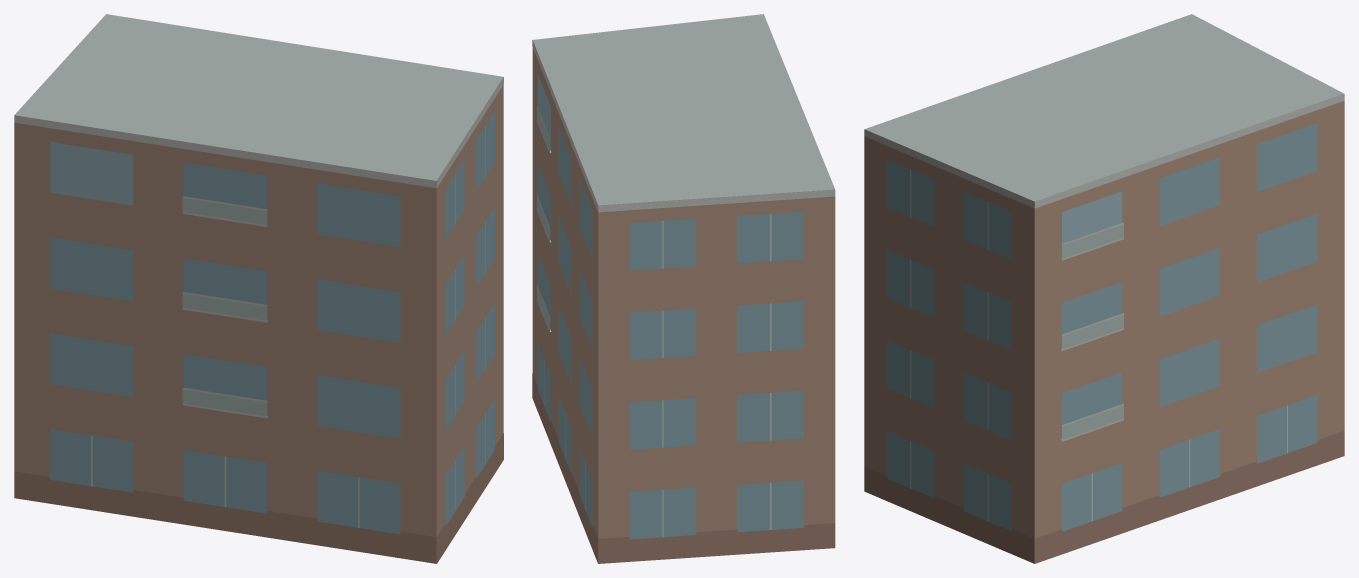
Rendered from survey-upis-32921221.glb.
3 views of the same model, side by side, from view 1: azimuth 30°, elevation 25°; view 2: azimuth 150°, elevation 25°; view 3: azimuth 270°, elevation 25° (orthographic). The views are drawn at different scales.
Visible parts, largest first — view 1: survey-upis-32921221.tmp; view 2: survey-upis-32921221.tmp; view 3: survey-upis-32921221.tmp.
Boxes of the visible parts, left/top/right/bottom form: survey-upis-32921221.tmp: left=14, top=14, right=503, bottom=563; survey-upis-32921221.tmp: left=532, top=14, right=835, bottom=563; survey-upis-32921221.tmp: left=864, top=14, right=1344, bottom=563.
Bounding box in the file's own units: 14.12 × 12.7 × 15.26.
